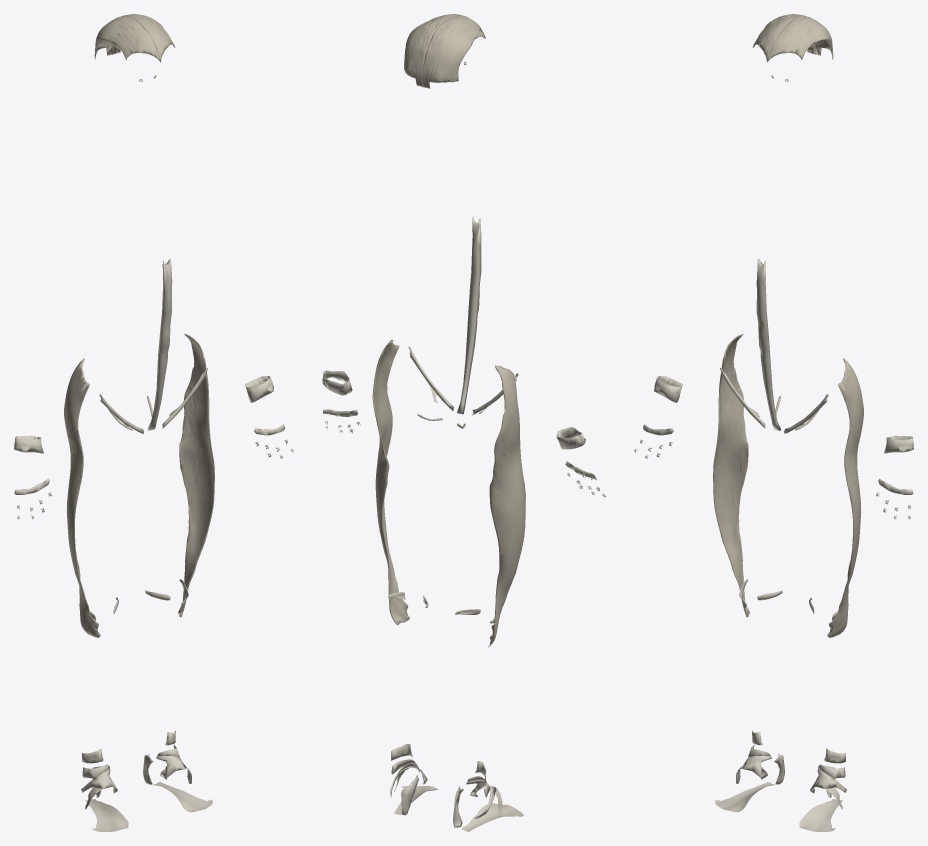
File: adult_male.fascia.LOD2.glb
3 renders of one model, left to right at view 1: azimuth 30°, elevation 25°; view 2: azimuth 150°, elevation 25°; view 3: azimuth 330°, elevation 25°, orthographic.
Parts seen in each view (by area): view 1: ADULT.MALE.FASCIA.ILIOTIBIAL_TRACT.L, ADULT.MALE.FASCIA.ILIOTIBIAL_TRACT.R, ADULT.MALE.FASCIA.EPICRANIAL_APONEUROSIS.R, ADULT.MALE.FASCIA.LINEA_ALBA, ADULT.MALE.FASCIA.EPICRANIAL_APONEUROSIS.L, ADULT.MALE.FASCIA.PLANTAR_APONEUROSIS.R; view 2: ADULT.MALE.FASCIA.ILIOTIBIAL_TRACT.R, ADULT.MALE.FASCIA.ILIOTIBIAL_TRACT.L, ADULT.MALE.FASCIA.EPICRANIAL_APONEUROSIS.R, ADULT.MALE.FASCIA.LINEA_ALBA, ADULT.MALE.FASCIA.EPICRANIAL_APONEUROSIS.L, ADULT.MALE.FASCIA.PLANTAR_APONEUROSIS.R; view 3: ADULT.MALE.FASCIA.ILIOTIBIAL_TRACT.R, ADULT.MALE.FASCIA.ILIOTIBIAL_TRACT.L, ADULT.MALE.FASCIA.EPICRANIAL_APONEUROSIS.L, ADULT.MALE.FASCIA.LINEA_ALBA, ADULT.MALE.FASCIA.EPICRANIAL_APONEUROSIS.R, ADULT.MALE.FASCIA.PLANTAR_APONEUROSIS.L.
Part boxes in pixels (x1,y1,x2,y2): ADULT.MALE.FASCIA.ILIOTIBIAL_TRACT.L: [178, 334, 214, 617]; ADULT.MALE.FASCIA.ILIOTIBIAL_TRACT.R: [64, 358, 100, 637]; ADULT.MALE.FASCIA.EPICRANIAL_APONEUROSIS.R: [94, 15, 160, 61]; ADULT.MALE.FASCIA.LINEA_ALBA: [147, 259, 172, 430]; ADULT.MALE.FASCIA.EPICRANIAL_APONEUROSIS.L: [113, 14, 175, 61]; ADULT.MALE.FASCIA.PLANTAR_APONEUROSIS.R: [85, 799, 128, 828]; ADULT.MALE.FASCIA.ILIOTIBIAL_TRACT.R: [488, 365, 525, 647]; ADULT.MALE.FASCIA.ILIOTIBIAL_TRACT.L: [372, 339, 409, 624]; ADULT.MALE.FASCIA.EPICRANIAL_APONEUROSIS.R: [422, 15, 485, 88]; ADULT.MALE.FASCIA.LINEA_ALBA: [457, 216, 481, 414]; ADULT.MALE.FASCIA.EPICRANIAL_APONEUROSIS.L: [404, 14, 459, 87]; ADULT.MALE.FASCIA.PLANTAR_APONEUROSIS.R: [462, 803, 517, 831]; ADULT.MALE.FASCIA.ILIOTIBIAL_TRACT.R: [713, 334, 749, 617]; ADULT.MALE.FASCIA.ILIOTIBIAL_TRACT.L: [827, 358, 863, 637]; ADULT.MALE.FASCIA.EPICRANIAL_APONEUROSIS.L: [767, 15, 833, 61]; ADULT.MALE.FASCIA.LINEA_ALBA: [756, 259, 780, 430]; ADULT.MALE.FASCIA.EPICRANIAL_APONEUROSIS.R: [752, 14, 814, 61]; ADULT.MALE.FASCIA.PLANTAR_APONEUROSIS.L: [799, 799, 842, 828].
Size of the model in its own units: 0.6279 by 1.7 by 0.2207.
